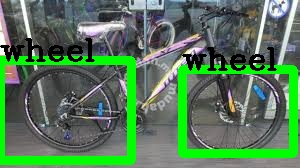wheel: (0, 60, 131, 160), (182, 69, 293, 153)
